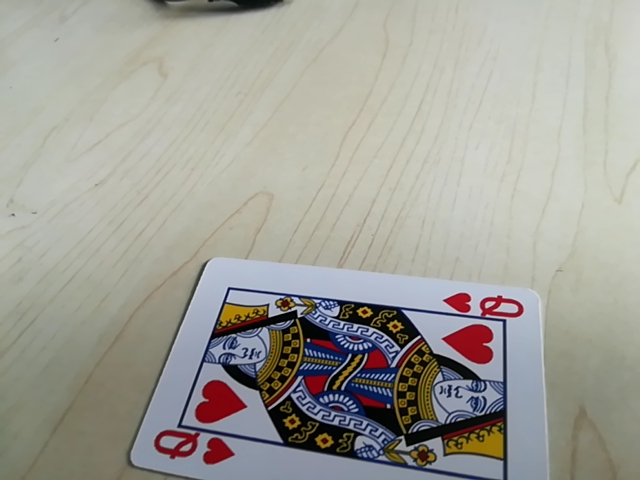hx q: (148, 429, 233, 470), (440, 288, 530, 321)
